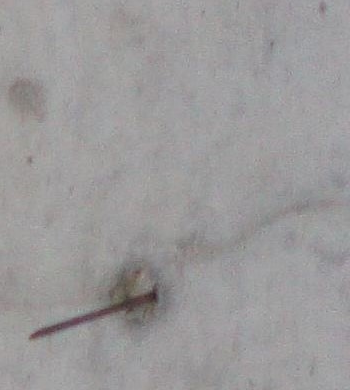Exposed reinforcement: (27, 292, 157, 341)
Spalling: (110, 266, 161, 324)
